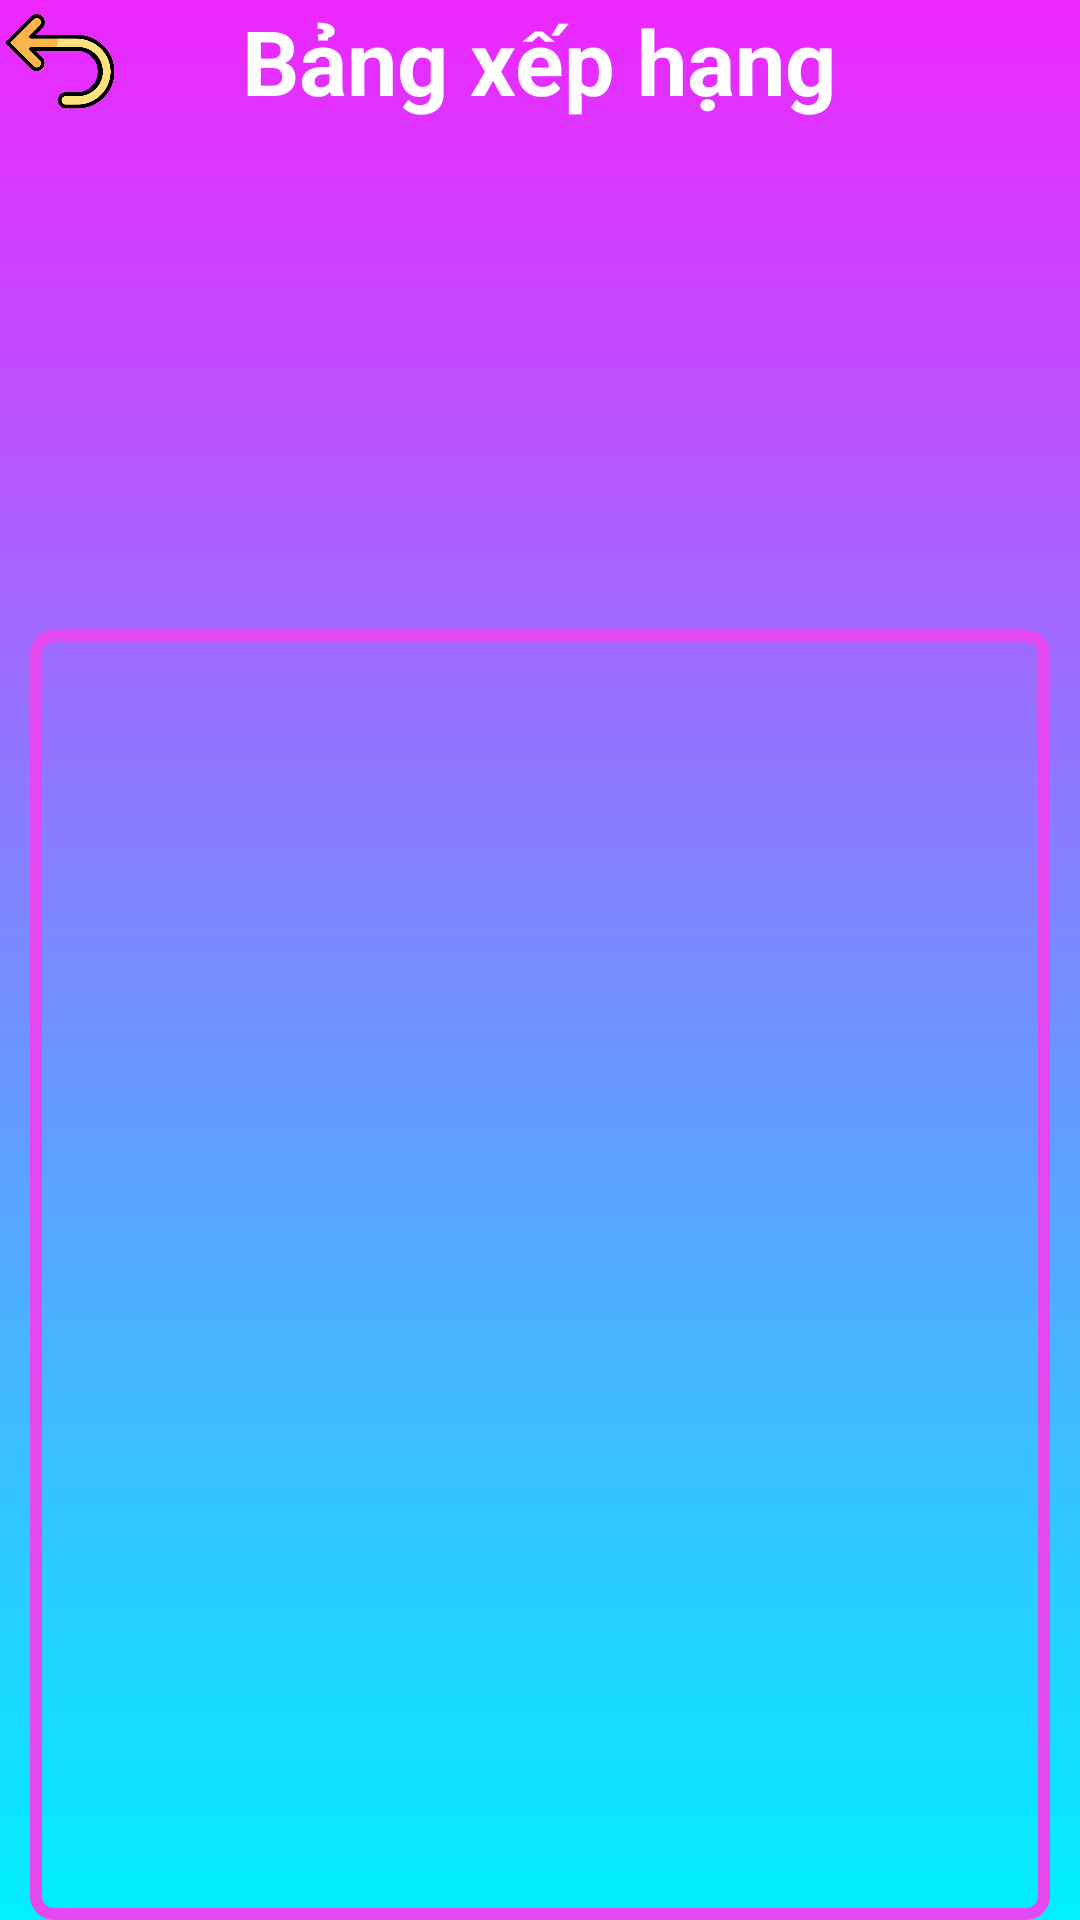

Point at icon controls on the screen. Image size 1080×1920, points as [x,y].
arrows: [60,61]
